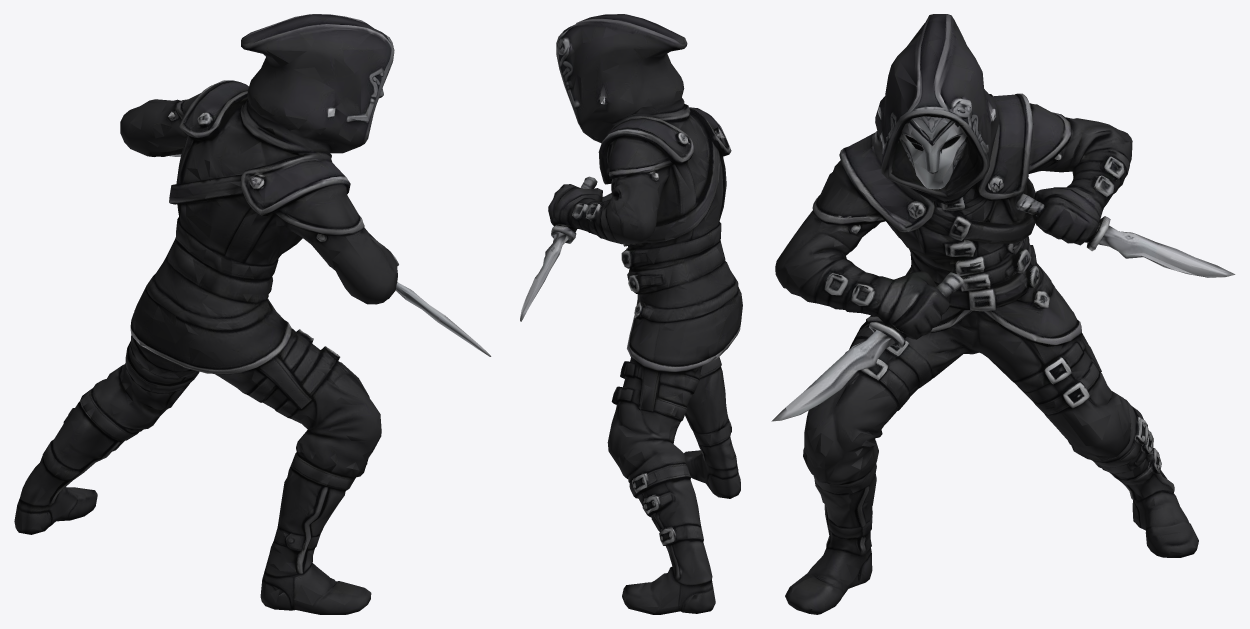
File: gduel.glb
The picture shows the model from 3 angles, left to right: view 1: azimuth 30°, elevation 25°; view 2: azimuth 150°, elevation 25°; view 3: azimuth 270°, elevation 25°; orthographic projection. The views are drawn at different scales.
Visible parts, largest first — view 1: tripo_node_809abdb0-4cfc-490b-b4cc-e1182c49b09b; view 2: tripo_node_809abdb0-4cfc-490b-b4cc-e1182c49b09b; view 3: tripo_node_809abdb0-4cfc-490b-b4cc-e1182c49b09b.
Boxes of the visible parts, bbox=[...] form: tripo_node_809abdb0-4cfc-490b-b4cc-e1182c49b09b: bbox=[14, 14, 491, 614]; tripo_node_809abdb0-4cfc-490b-b4cc-e1182c49b09b: bbox=[520, 14, 742, 614]; tripo_node_809abdb0-4cfc-490b-b4cc-e1182c49b09b: bbox=[771, 14, 1235, 614].
Size of the model in its own units: 0.5649 by 0.9783 by 0.7081.
Materials: 1 (1 with a texture image).
